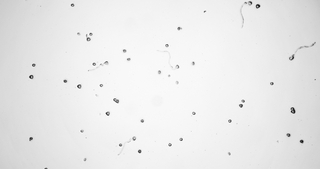germinated: (288, 50, 296, 61), (241, 0, 253, 7), (171, 63, 180, 71), (126, 135, 136, 142), (99, 59, 108, 66)
nongerminated: (81, 155, 90, 163), (85, 34, 92, 43), (284, 131, 291, 140), (104, 109, 111, 118), (298, 137, 305, 145), (138, 117, 146, 124), (175, 25, 182, 32), (254, 2, 261, 9), (135, 147, 142, 154), (121, 47, 128, 54), (75, 30, 82, 37), (69, 1, 76, 8), (75, 82, 82, 89), (61, 77, 68, 84), (268, 80, 274, 87), (239, 97, 246, 103), (226, 117, 233, 123), (190, 110, 197, 116), (178, 135, 184, 142), (167, 141, 173, 148), (125, 56, 131, 63), (90, 60, 97, 66), (98, 82, 104, 89), (114, 99, 120, 106), (79, 127, 85, 134), (30, 62, 37, 68), (28, 73, 34, 80), (289, 109, 295, 115), (237, 102, 243, 108), (226, 150, 232, 156), (162, 42, 168, 48), (156, 69, 162, 75), (117, 142, 123, 148), (174, 79, 180, 85), (166, 73, 172, 79), (27, 135, 33, 141), (190, 60, 196, 65), (290, 105, 295, 110), (111, 96, 116, 101)
